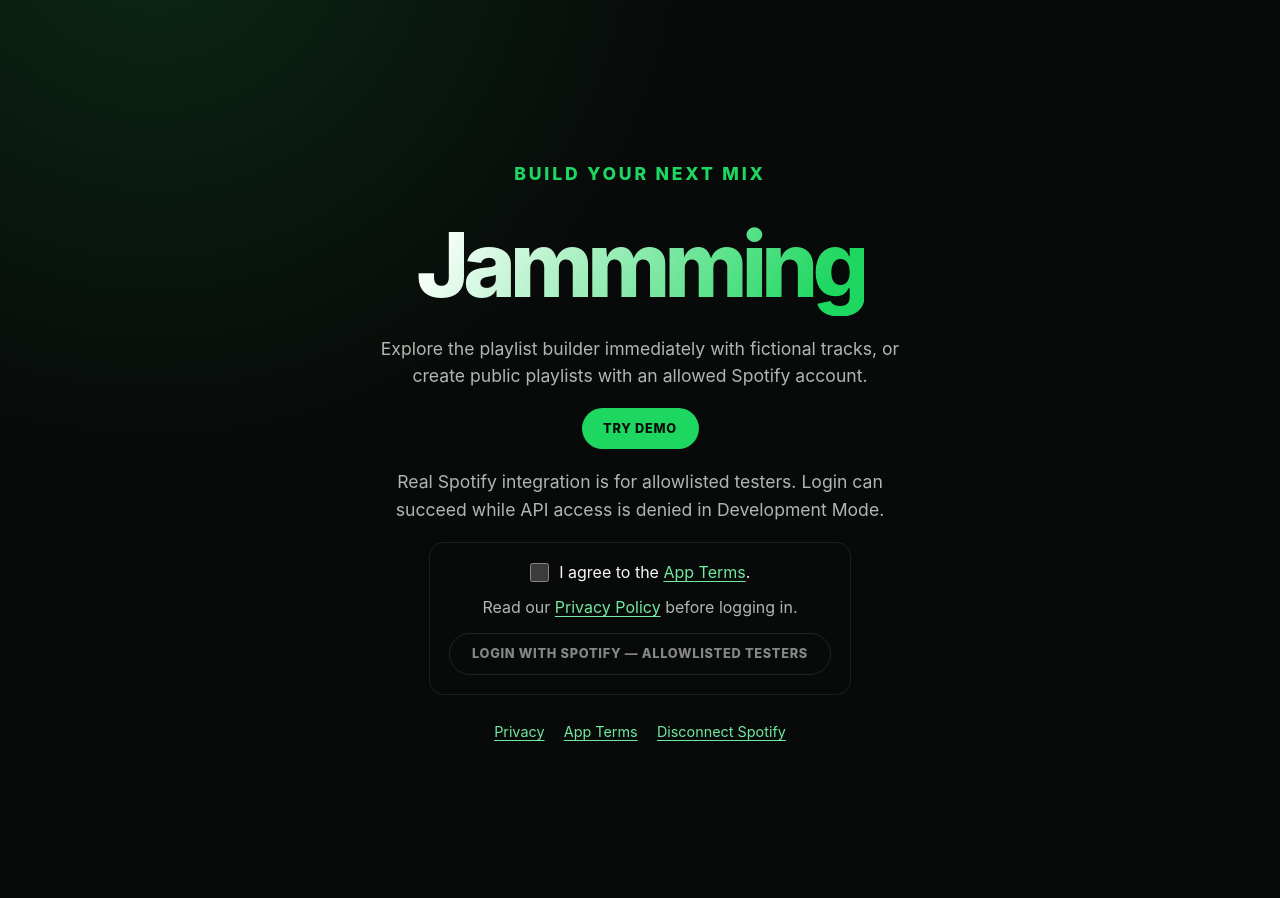
account-free demo and pre-login information › exiting and re-entering demo resets the draft, name, results, and summary
This screenshot has width=1280, height=898.
Click the button "Try demo" at (640, 429), box left=582, top=408, right=698, bottom=449
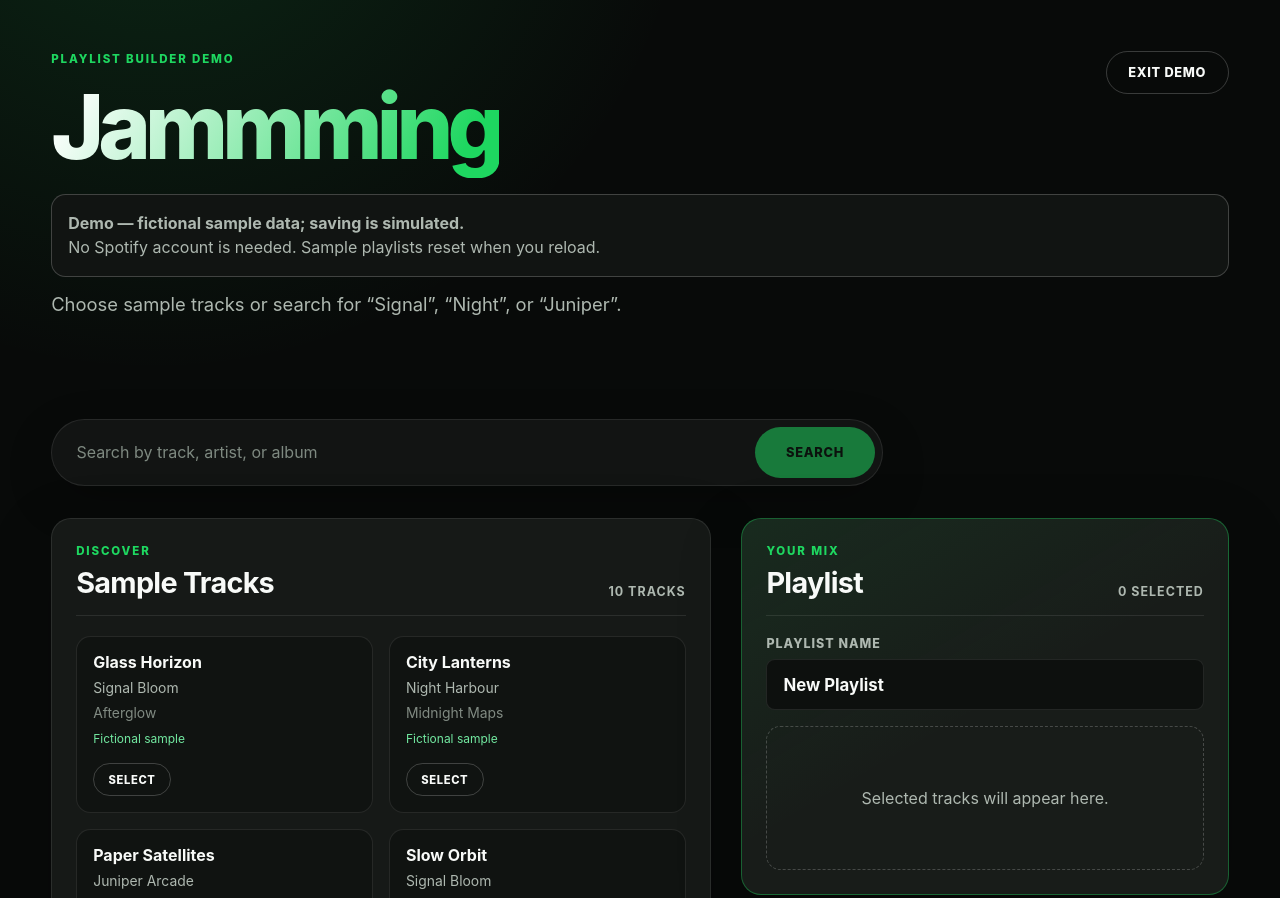
Click the button with aria-label "select glass horizon" at (132, 780), box left=93, top=763, right=171, bottom=796
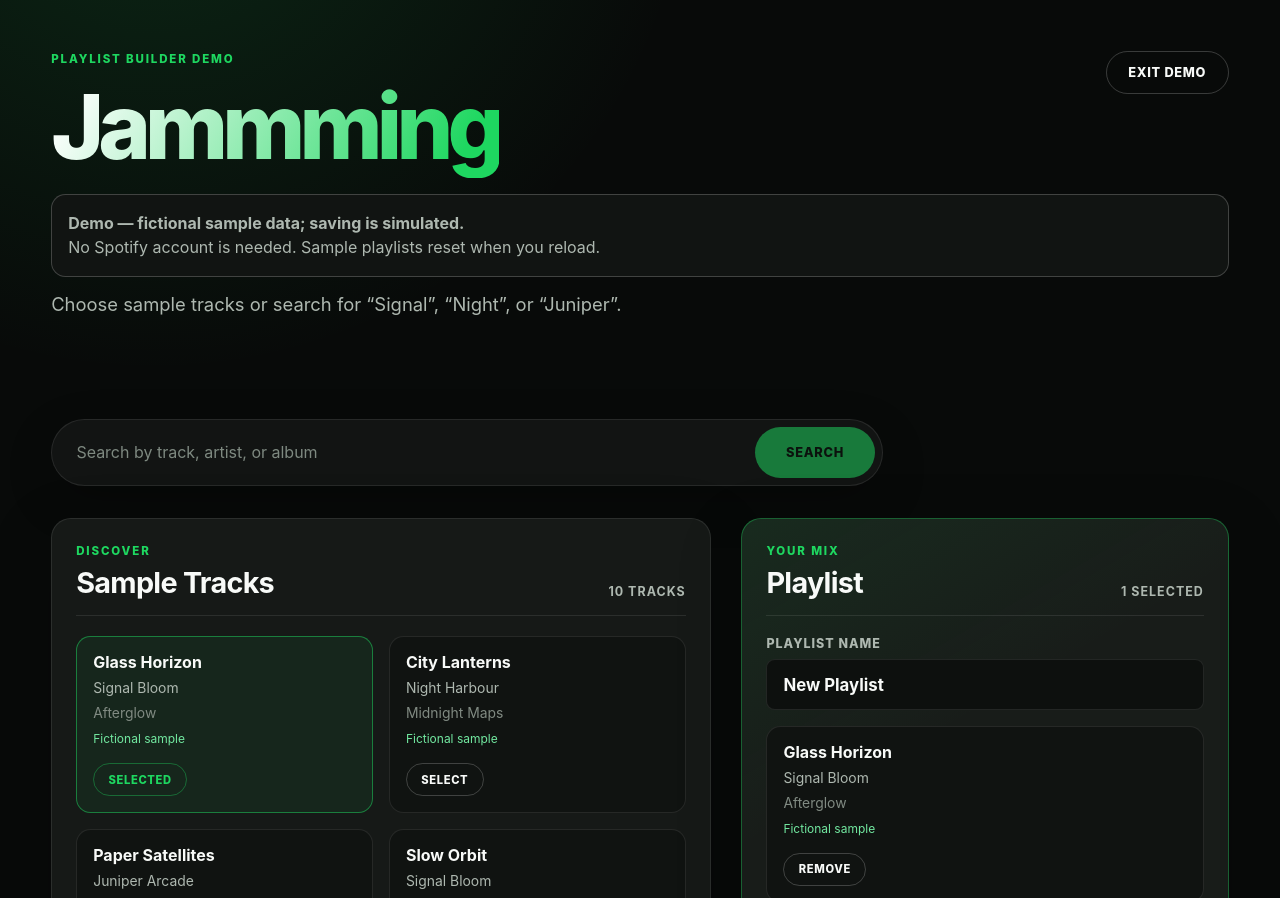
Type " changed" into the field labelled "Playlist name" at (985, 685), box left=766, top=659, right=1204, bottom=710
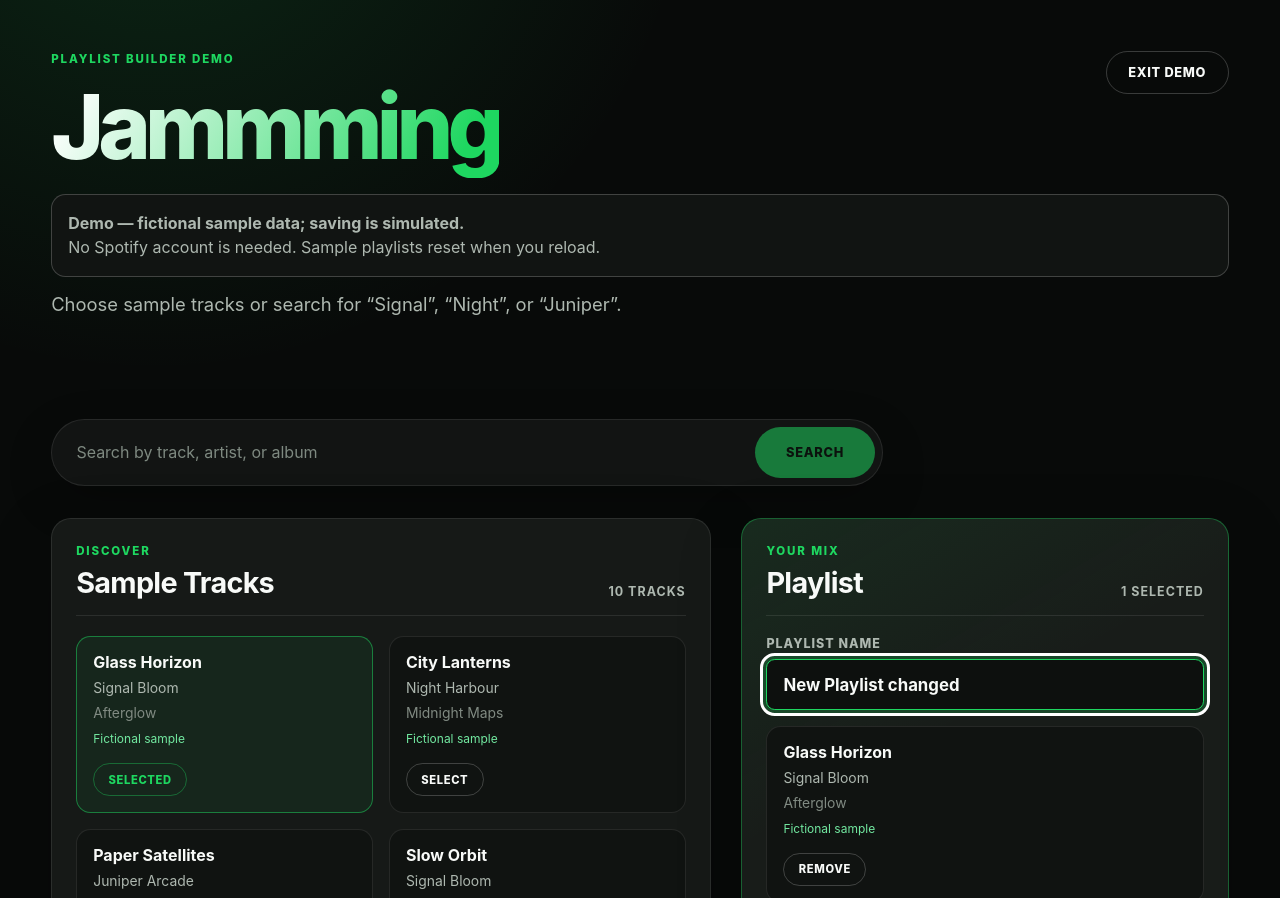
Click the button "Exit demo" at (1167, 72), box left=1106, top=51, right=1229, bottom=94
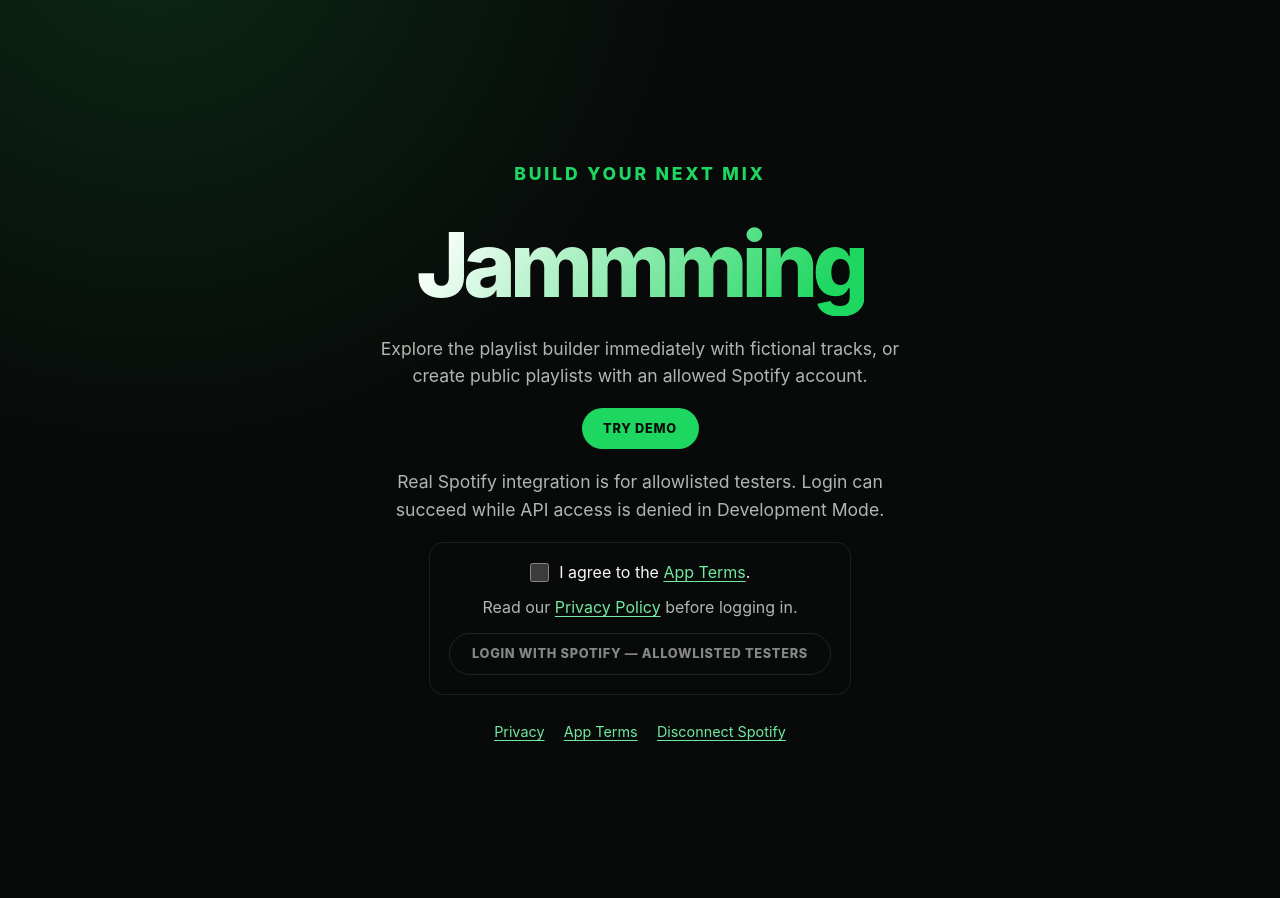
Click the button "Try demo" at (640, 429), box left=582, top=408, right=698, bottom=449
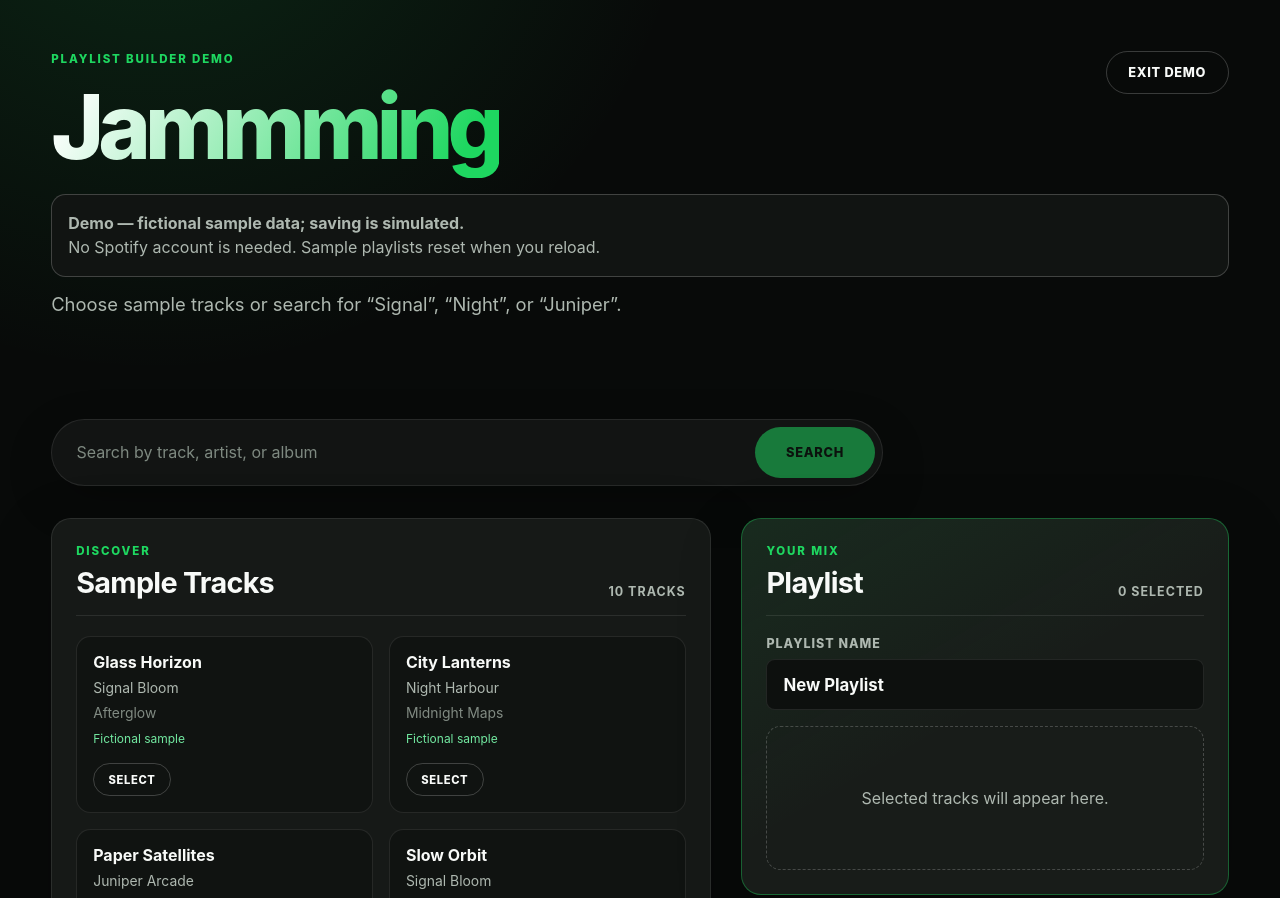
Result: the field labelled "Playlist name" holds "New Playlist" at left=766, top=659, right=1204, bottom=710
Result: the text "0 selected" is shown at left=1118, top=584, right=1204, bottom=599
Result: the text "10 tracks" is shown at left=608, top=584, right=686, bottom=599
